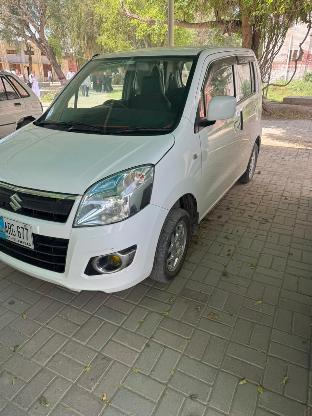car: (0, 42, 272, 306)
